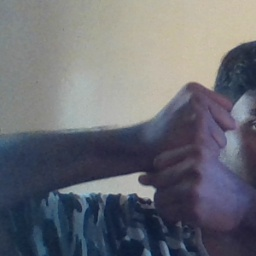G: (144, 76, 237, 229)
